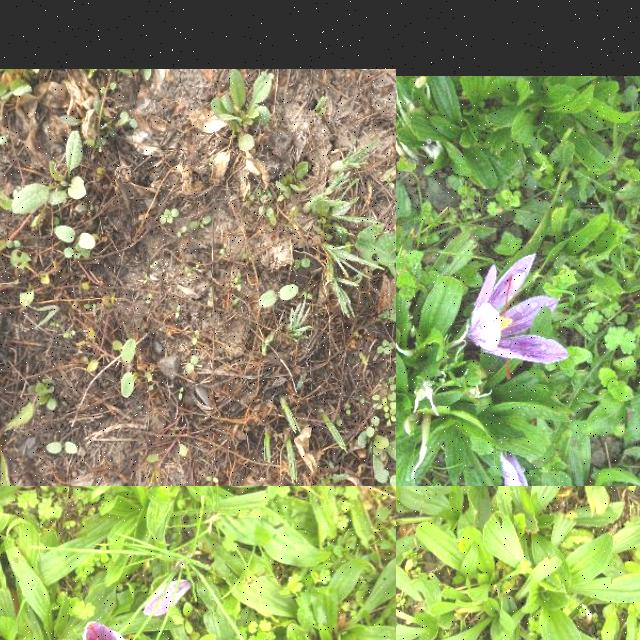flower: (464, 254, 570, 380), (82, 622, 125, 640)
